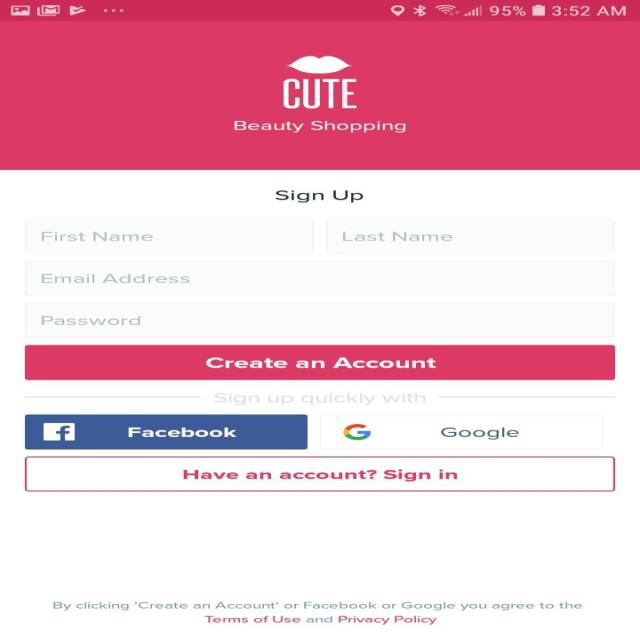EditText: (24, 303, 614, 338), (24, 261, 614, 296), (25, 218, 314, 254), (326, 218, 614, 254)
Image: (283, 55, 353, 74)
Text: (52, 601, 582, 624), (213, 392, 426, 405), (282, 78, 356, 109), (234, 121, 406, 133), (41, 274, 190, 283), (41, 232, 153, 242), (343, 231, 453, 241), (274, 190, 364, 202), (41, 316, 140, 325)
TextButton: (25, 456, 615, 492), (24, 344, 614, 380), (24, 414, 308, 449), (319, 414, 602, 449)
